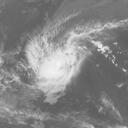cyclone: (35, 46, 80, 94)
